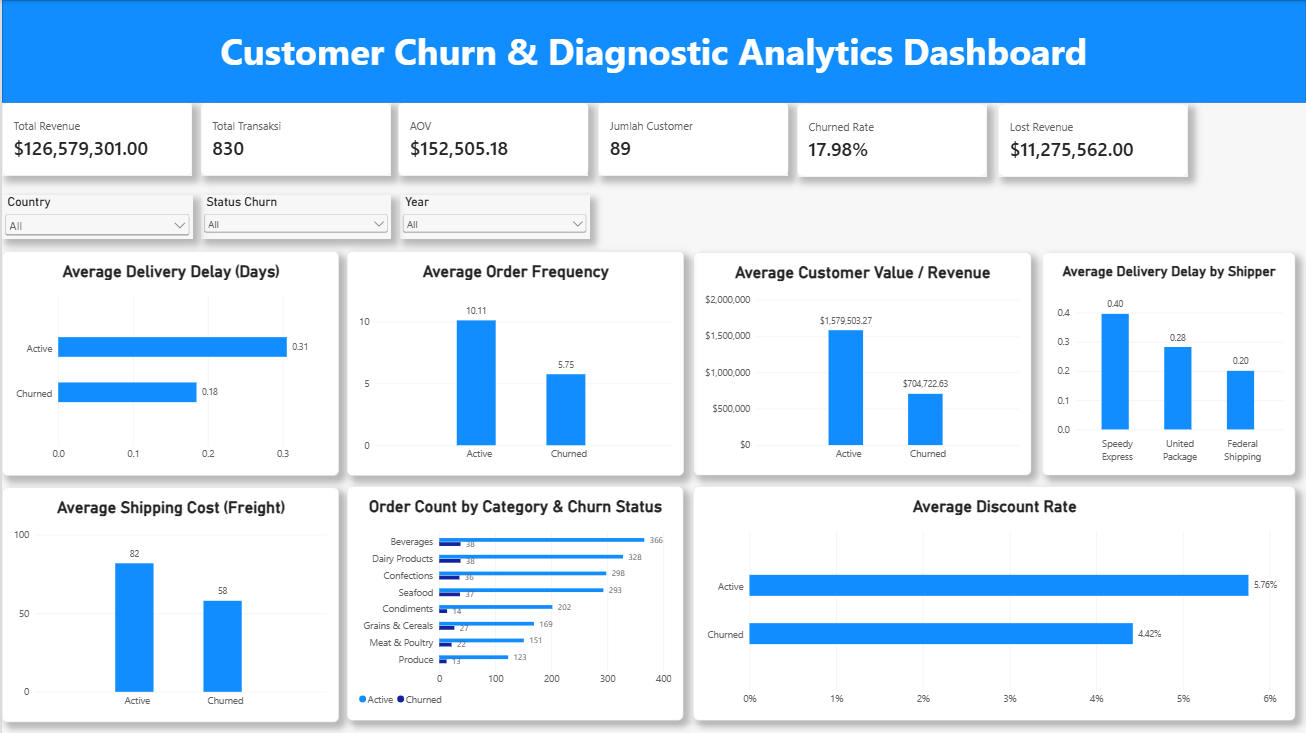

This screenshot's page, from the dashboard's own definition file:
{"tool":"powerbi","page":{"name":"Churn Diagnostic","canvas":[1920,1080],"ordinal":1},"visuals":[{"type":"cardVisual","fields":{"Data":["meassure.Total Revenue"]},"box":[0,151,280,108],"z":0},{"type":"cardVisual","fields":{"Data":["meassure.Total Transaksi"]},"box":[292,151,280,108],"z":1000},{"type":"cardVisual","fields":{"Data":["meassure.AOV"]},"box":[584,151,280,108],"z":2000},{"type":"cardVisual","fields":{"Data":["meassure.Jumlah Customer"]},"box":[878,151,280,108],"z":3000},{"type":"cardVisual","fields":{"Data":["meassure.Churned Rate"]},"box":[1171,152,279.9,107],"z":4000},{"type":"cardVisual","fields":{"Data":["meassure.Lost Revenue"]},"box":[1466,152,279.9,107],"z":5000},{"type":"shape","box":[0,0,1920.4,151],"z":6000},{"type":"textbox","box":[0,39.1,1919.6,76.1],"z":7000},{"type":"slicer","fields":{"Values":["public customer_master_pipeline.Status Churn"]},"box":[292.2,286.7,280,64.4],"z":8000},{"type":"slicer","fields":{"Values":["public orders.orderDate.Variation.Date Hierarchy.Year"]},"box":[584.4,286.7,280,64.4],"z":9000},{"type":"slicer","fields":{"Values":["public customer_master_pipeline.country"]},"box":[0,286.7,281.1,64.4],"z":10000},{"type":"clusteredBarChart","title":"Average Delivery Delay (Days)","fields":{"Category":["public customer_master_pipeline.Status Churn"],"Y":["Avg(public pengiriman.keterlambatan_hari)"]},"box":[0,369.6,495.7,330.4],"z":11000},{"type":"clusteredColumnChart","title":"Average Shipping Cost (Freight)","fields":{"Category":["public customer_master_pipeline.Status Churn"],"Y":["Avg(public pengiriman.freight)"]},"box":[0,717.4,495.7,345.7],"z":12000},{"type":"clusteredColumnChart","title":"Average Delivery Delay by Shipper","fields":{"Category":["public pengiriman.shipper"],"Y":["Avg(public pengiriman.keterlambatan_hari)"]},"box":[1531.7,371.7,372.5,328.3],"z":13000},{"type":"clusteredColumnChart","title":"Average Customer Value / Revenue","fields":{"Category":["public customer_master_pipeline.Status Churn"],"Y":["Avg(public customer_master_pipeline.total_belanja)"]},"box":[1018.3,371.7,497.5,328.3],"z":14000},{"type":"clusteredColumnChart","title":"Average Order Frequency","fields":{"Category":["public customer_master_pipeline.Status Churn"],"Y":["Avg(public customer_master_pipeline.total_transaksi)"]},"box":[508.3,369.2,495.7,330.4],"z":15000},{"type":"clusteredBarChart","title":"Order Count by Category & Churn Status","fields":{"Category":["public v_order_categories.category_name"],"Series":["public customer_master_pipeline.Status Churn"],"Y":["CountNonNull(public v_order_categories.order_id)"]},"box":[508.3,716.7,495,345],"z":16000},{"type":"clusteredBarChart","title":"Average Discount Rate","fields":{"Category":["public customer_master_pipeline.Status Churn"],"Y":["Avg(public order_details.discount)"]},"box":[1018.3,716.7,886.7,345],"z":17000}]}

Visuals, with their boxes in screenshot pixels (x1, y1, x2, y2), scaled from the page's 1920x1080 canvas onto the 1306x733 screenshot:
cardVisual - meassure.Total Revenue: x1=0 y1=102 x2=190 y2=176
cardVisual - meassure.Total Transaksi: x1=199 y1=102 x2=389 y2=176
cardVisual - meassure.AOV: x1=397 y1=102 x2=588 y2=176
cardVisual - meassure.Jumlah Customer: x1=597 y1=102 x2=788 y2=176
cardVisual - meassure.Churned Rate: x1=797 y1=103 x2=987 y2=176
cardVisual - meassure.Lost Revenue: x1=997 y1=103 x2=1188 y2=176
shape: x1=0 y1=0 x2=1305 y2=102
textbox: x1=0 y1=27 x2=1305 y2=78
slicer - public customer_master_pipeline.Status Churn: x1=199 y1=195 x2=389 y2=238
slicer - public orders.orderDate.Variation.Date Hierarchy.Year: x1=398 y1=195 x2=588 y2=238
slicer - public customer_master_pipeline.country: x1=0 y1=195 x2=191 y2=238
"Average Delivery Delay (Days)" clusteredBarChart: x1=0 y1=251 x2=337 y2=475
"Average Shipping Cost (Freight)" clusteredColumnChart: x1=0 y1=487 x2=337 y2=722
"Average Delivery Delay by Shipper" clusteredColumnChart: x1=1042 y1=252 x2=1295 y2=475
"Average Customer Value / Revenue" clusteredColumnChart: x1=693 y1=252 x2=1031 y2=475
"Average Order Frequency" clusteredColumnChart: x1=346 y1=251 x2=683 y2=475
"Order Count by Category & Churn Status" clusteredBarChart: x1=346 y1=486 x2=682 y2=721
"Average Discount Rate" clusteredBarChart: x1=693 y1=486 x2=1296 y2=721
